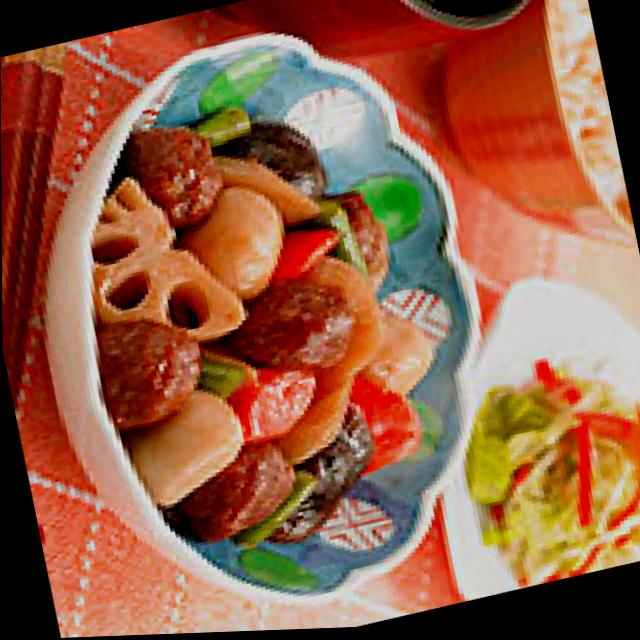鸡肉料理 含炸鸡: (51, 61, 483, 600)
